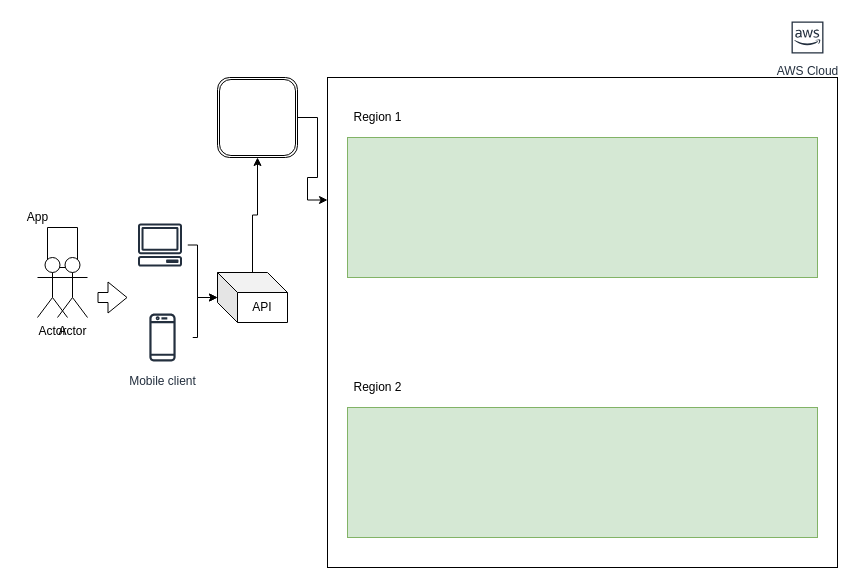
Image size: 855x585. Some labels were removed from this diagram. The shapes that lost their labels are listed below. From the top down, each one's box as (x1, y1, x2, y2) in pixels, then its label:
(216, 76, 298, 158): balanceador de carga
(132, 216, 188, 272): Client
